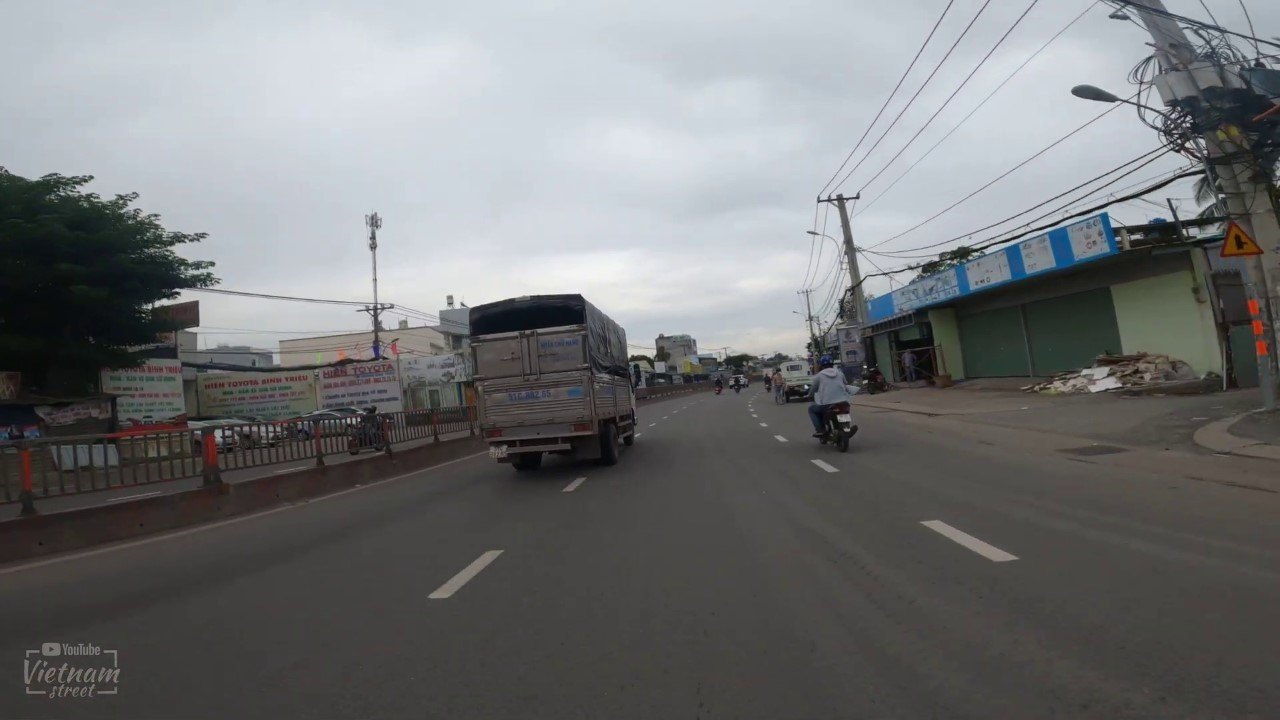giao_khong_uu_tien_phai: (1220, 218, 1265, 258)
